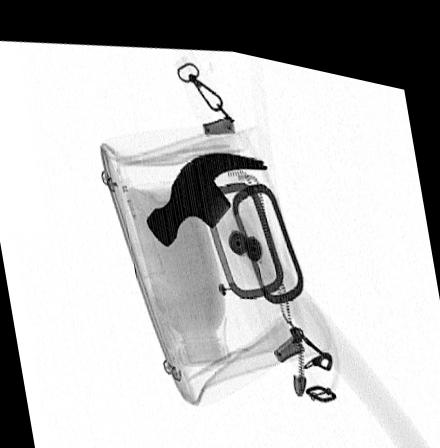Hammer: (143, 139, 440, 448)
